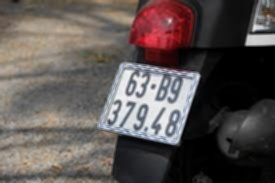Bien-so: (92, 58, 198, 151)
